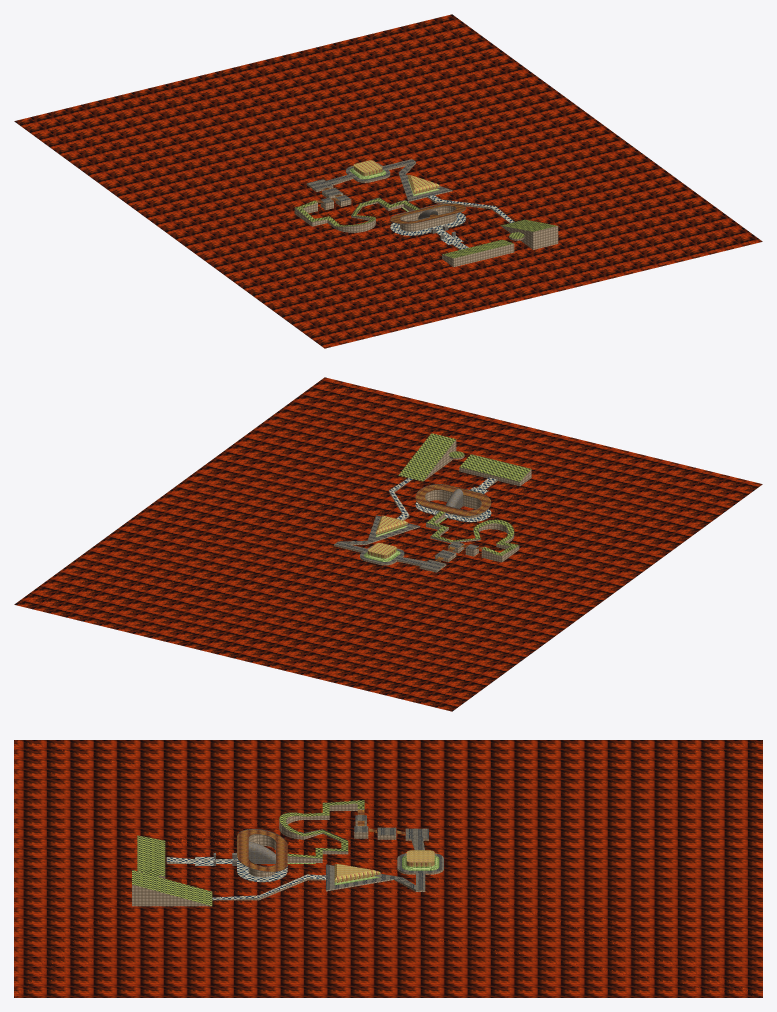
3 views of the same model, one above another, from view 1: azimuth 30°, elevation 25°; view 2: azimuth 150°, elevation 25°; view 3: azimuth 270°, elevation 25° (orthographic). The views are drawn at different scales.
Visible parts, largest first — view 1: course-SKP--fondo, course-SKP--wall1, course-SKP--p2, course-SKP--p3, course-SKP--p1, course-SKP--wall, course-SKP--wall2, course-SKP--p4; view 2: course-SKP--fondo, course-SKP--p2, course-SKP--wall1, course-SKP--p3, course-SKP--p4, course-SKP--p1, course-SKP--wall, course-SKP--wall2; view 3: course-SKP--fondo, course-SKP--p2, course-SKP--wall1, course-SKP--p3, course-SKP--p1, course-SKP--p4, course-SKP--wall, course-SKP--wall2.
Boxes of the visible parts, x1,y1,x2,y2 form: course-SKP--fondo: [14, 14, 762, 348]; course-SKP--wall1: [294, 162, 558, 267]; course-SKP--p2: [295, 198, 557, 258]; course-SKP--p3: [307, 159, 451, 202]; course-SKP--p1: [390, 195, 514, 249]; course-SKP--wall: [353, 160, 440, 193]; course-SKP--wall2: [351, 197, 465, 239]; course-SKP--p4: [316, 188, 465, 223]; course-SKP--fondo: [14, 377, 762, 711]; course-SKP--p2: [398, 433, 531, 555]; course-SKP--wall1: [334, 440, 531, 572]; course-SKP--p3: [334, 515, 478, 570]; course-SKP--p4: [415, 484, 491, 561]; course-SKP--p1: [389, 477, 496, 521]; course-SKP--wall: [367, 515, 407, 558]; course-SKP--wall2: [415, 484, 490, 542]; course-SKP--fondo: [14, 740, 762, 997]; course-SKP--p2: [132, 800, 364, 905]; course-SKP--wall1: [132, 803, 443, 906]; course-SKP--p3: [326, 815, 443, 890]; course-SKP--p1: [166, 857, 325, 900]; course-SKP--p4: [237, 810, 404, 871]; course-SKP--wall: [334, 850, 434, 882]; course-SKP--wall2: [213, 829, 348, 882].
Bounding box in the file's own units: 260959 × 10275 × 320539.
11 materials, 10 textured.
